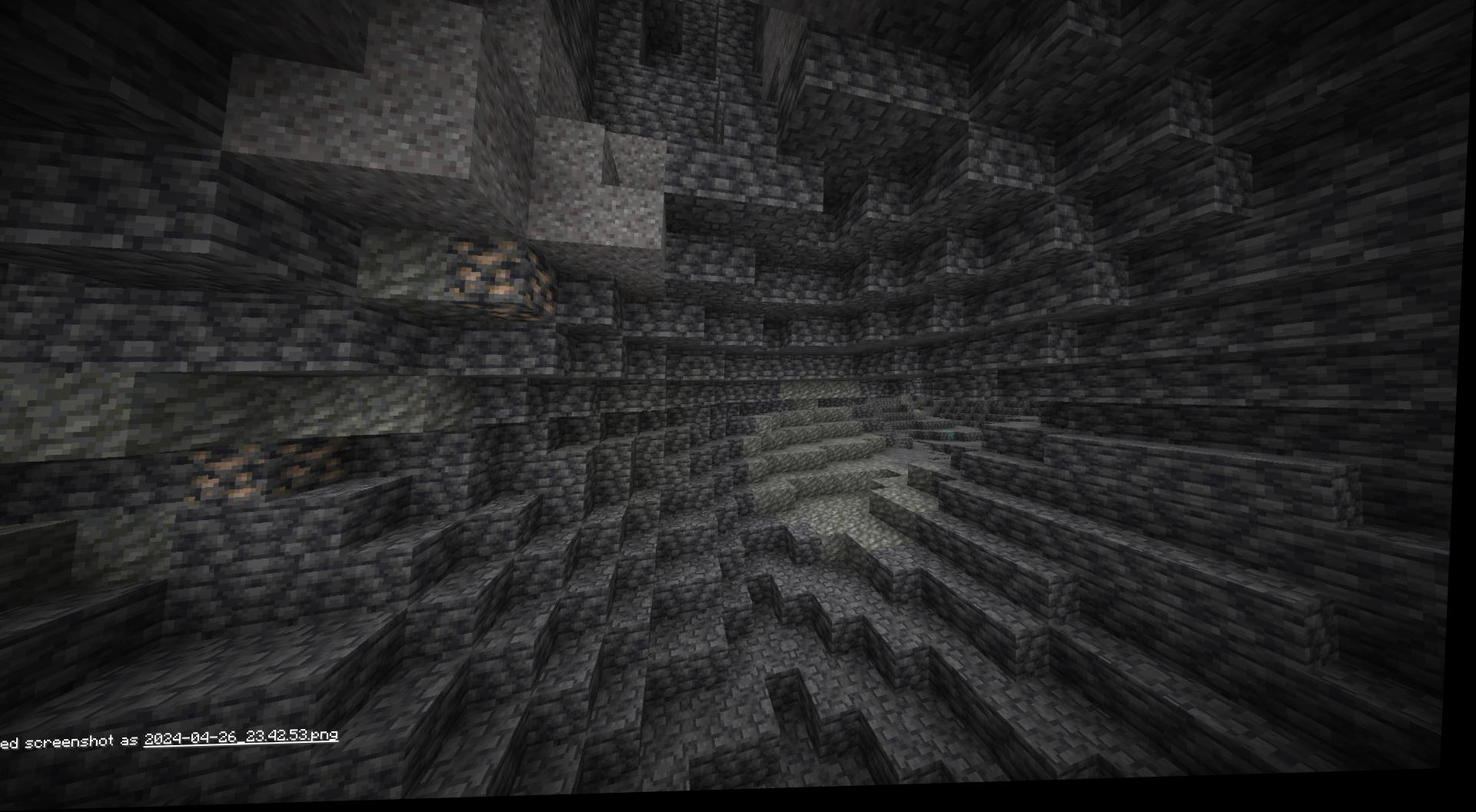iron ore: (265, 434, 354, 496), (446, 238, 522, 303), (195, 441, 265, 509), (520, 248, 559, 316)
